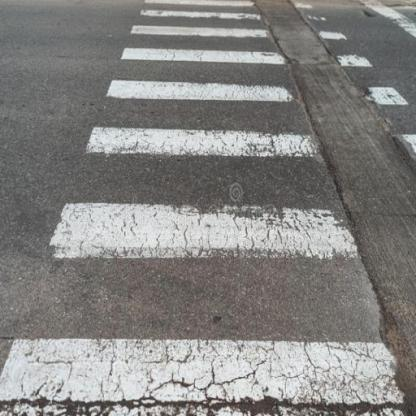crosswalk: (40, 113, 374, 292), (102, 40, 304, 106)
